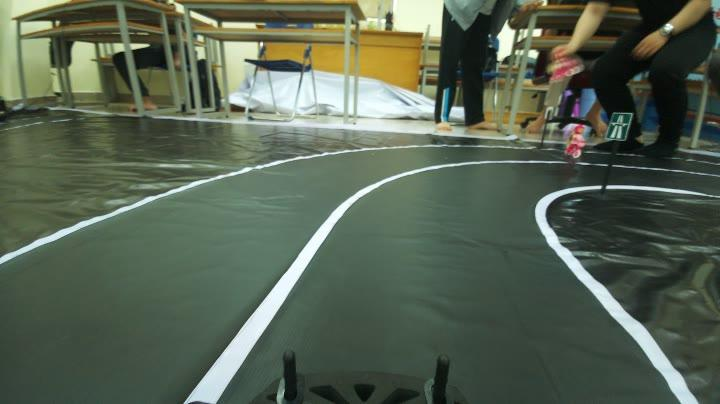highway_entry: (610, 108, 634, 144)
